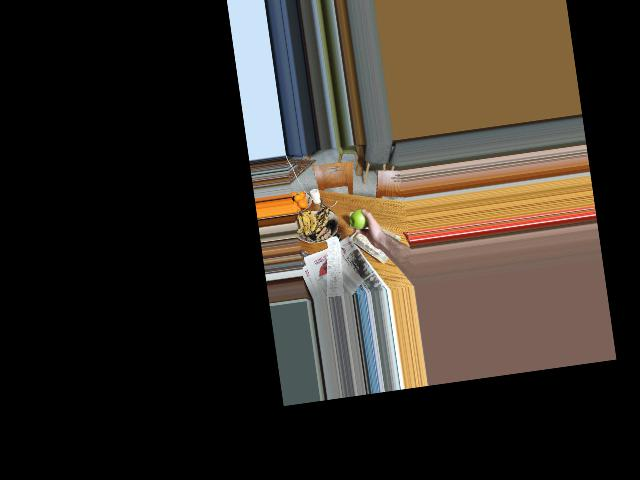apple: (348, 206, 372, 232)
